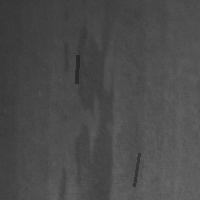inclusion: (71, 25, 115, 198), (132, 151, 141, 188), (74, 53, 79, 85)
